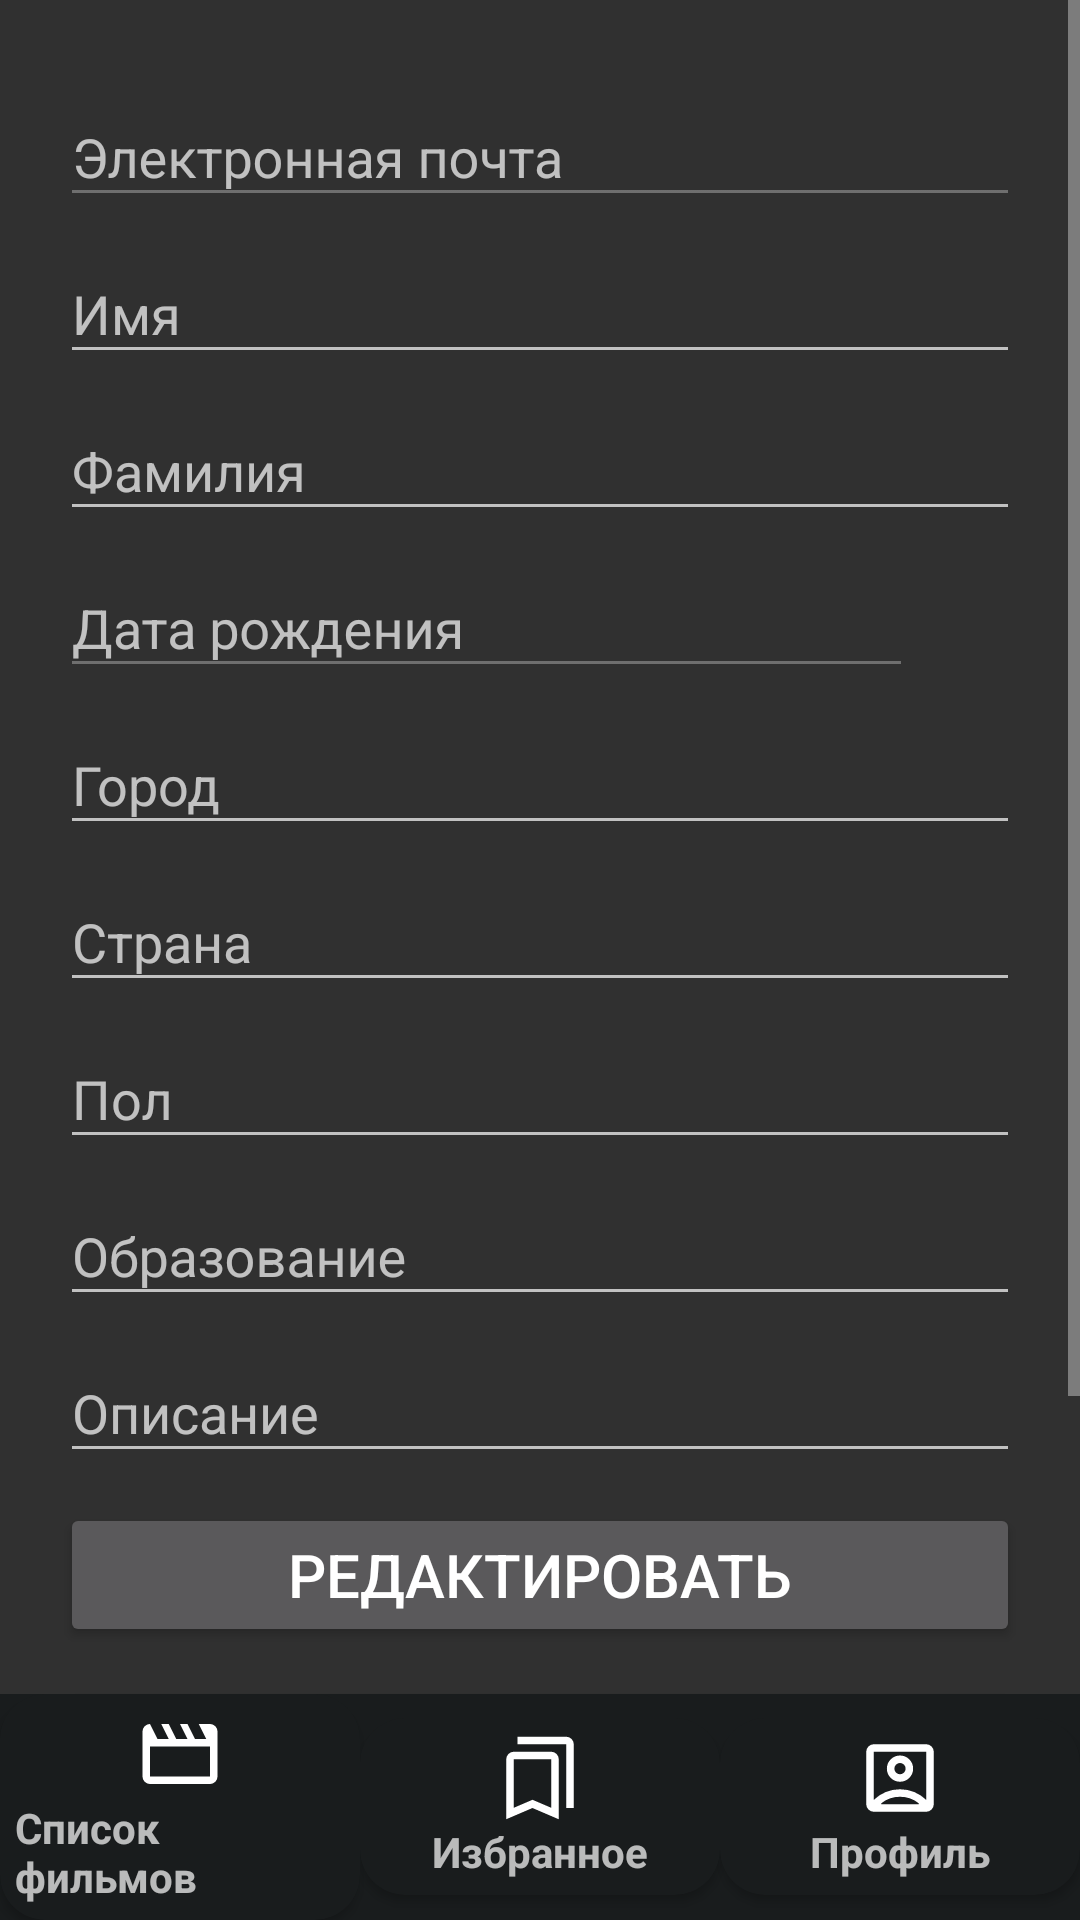

Icons on this 1080px×1920px Android screen, each with its box as [left=x1, top=y1, right=x2, bottom=y2]:
movie: [left=142, top=1724, right=218, bottom=1784]
